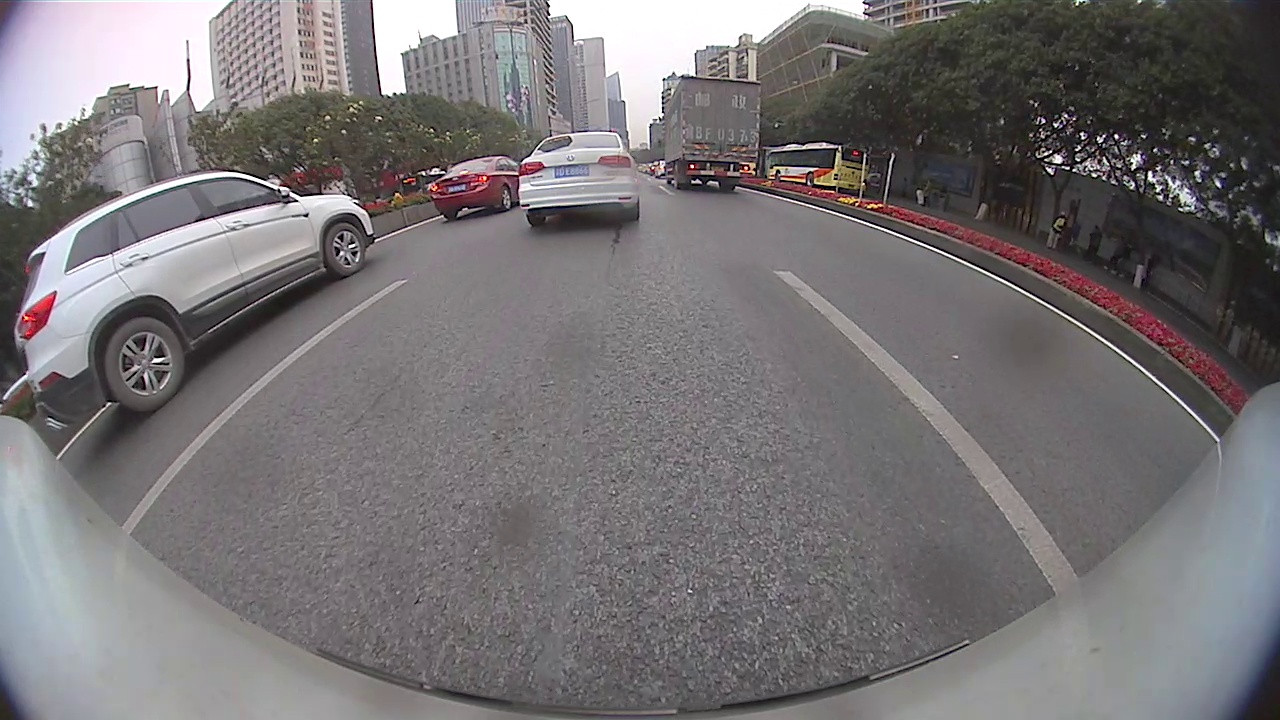bus: (764, 141, 870, 193)
car: (16, 170, 377, 433), (517, 129, 642, 229), (430, 155, 520, 223)
front: (326, 224, 364, 274)
rear: (106, 317, 185, 414), (500, 185, 515, 211), (673, 161, 687, 188), (804, 171, 817, 186)
truck: (662, 73, 761, 192)
